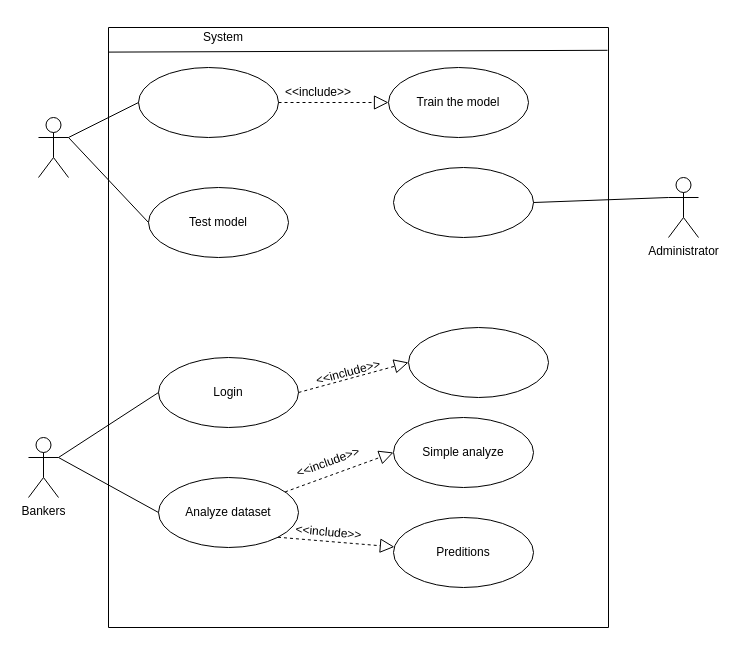
Image size: 736x645. Some labels were removed from this diagram. Each missing label, with the box of its shape:
Create model: (138, 66, 278, 138)
Data scientist: (38, 116, 68, 178)
Mange the users: (392, 166, 534, 238)
Validate the informations: (408, 326, 548, 398)
